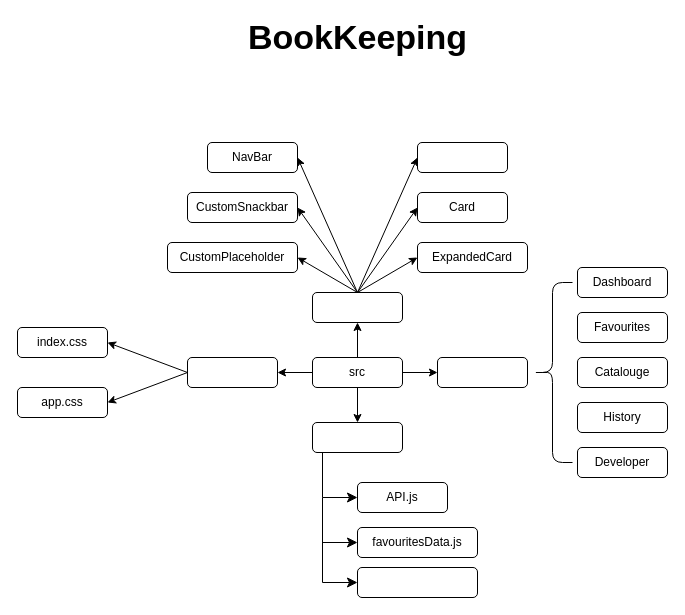
Image size: 685x615. Some labels were removed from this diagram. The centre of each missing label's shape, as x and y in pixels:
"Components" belongs at (357,307).
"Pages" belongs at (482,372).
"Styles" belongs at (232,372).
"Utils" belongs at (357,437).
